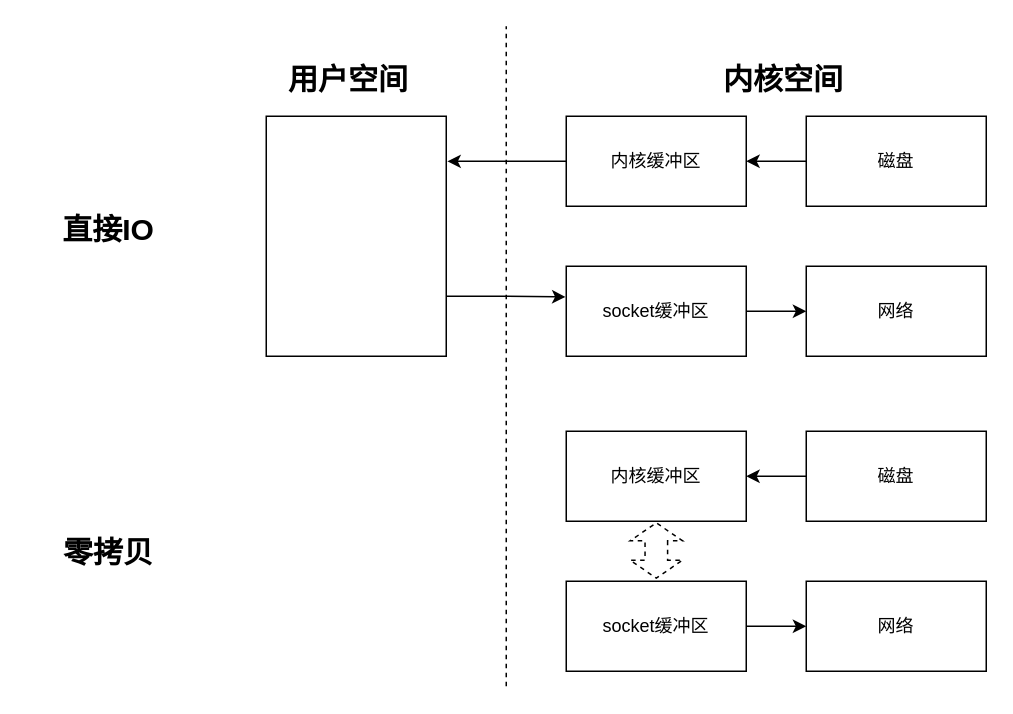
Image size: 1013x714. Some labels were removed from this diagram. Each missing label, with the box of its shape:
应用程序 进程: (265, 115, 446, 356)
映射: (629, 521, 683, 578)
